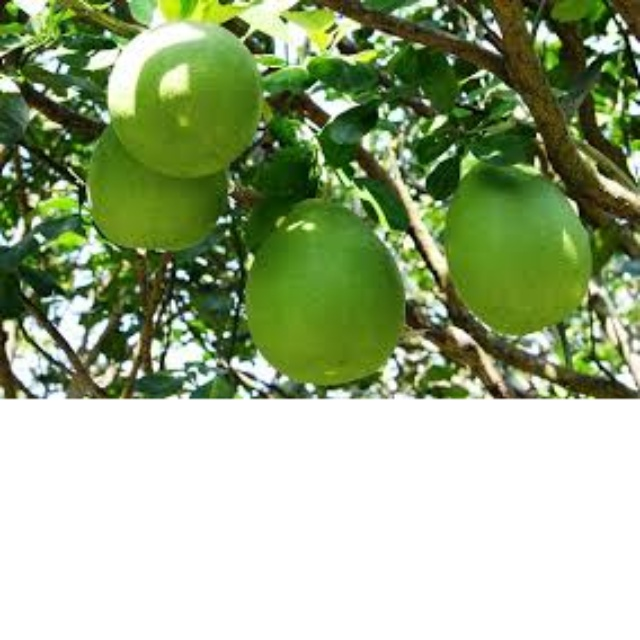buoi: (242, 198, 408, 388), (443, 158, 595, 339), (105, 17, 266, 180)
